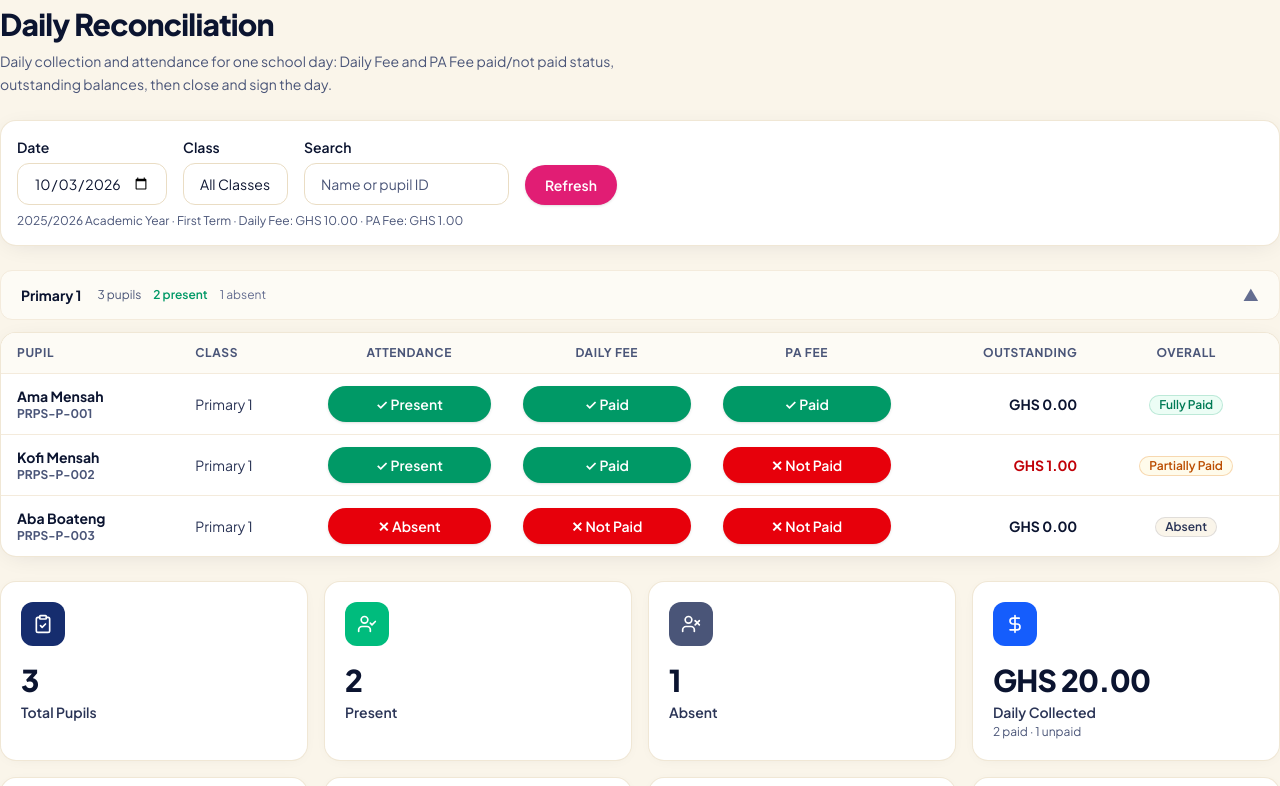
ReconciliationPage › shows date-specific totals after changing the date
The width and height of the screenshot is (1280, 786).
Expected: the text "3" is shown, 21,660 -> 39,698
Type "2026-03-10" into the date field labelled "Date" at (92, 184), box 17,162 -> 167,204
(page scrolled)
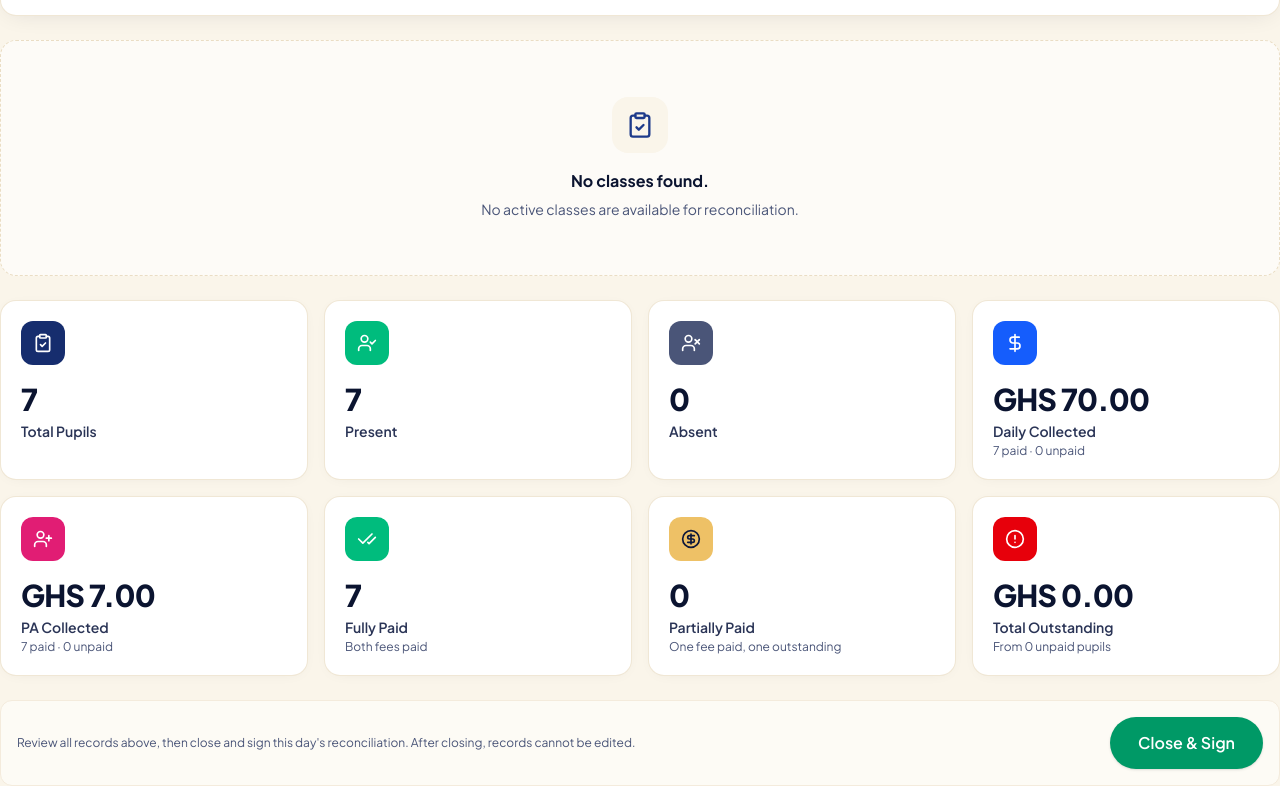
Result: the 1st text "7" is shown at 21,380 -> 37,418
Result: the text "GHS 70.00" is shown at 993,380 -> 1149,418
Result: the text "GHS 0.00" is shown at 993,576 -> 1133,614
